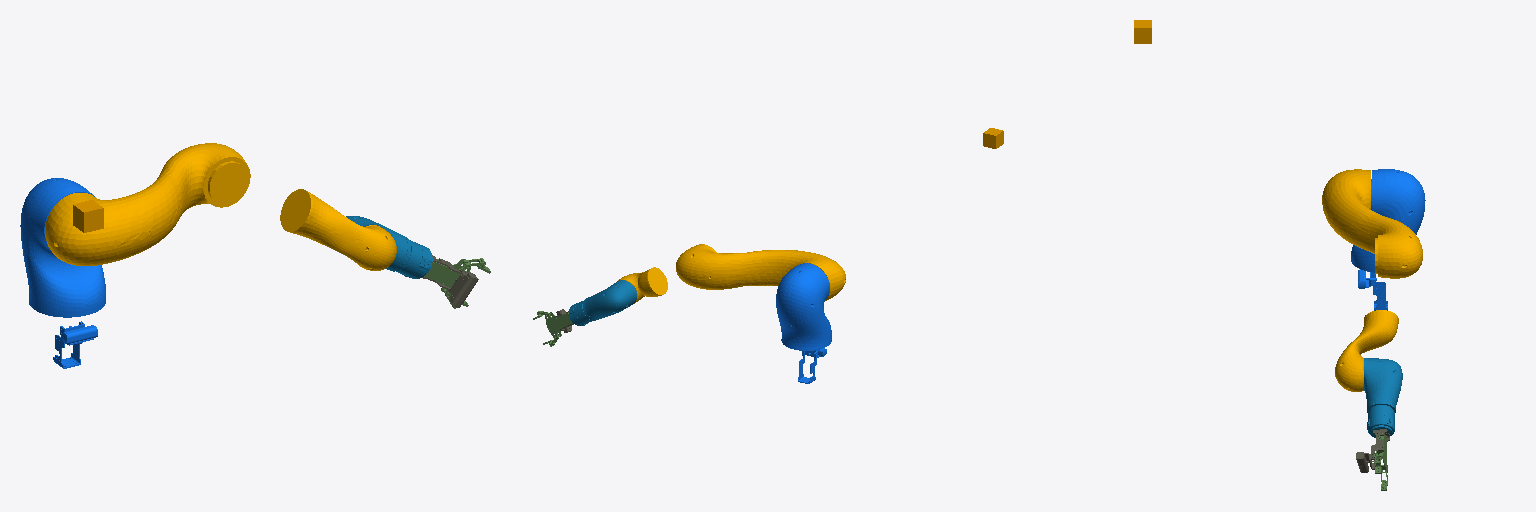
robot.urdf — hsr_co602_gripper_onhand_kinect2:
<?xml version="1.0" ?>
<!-- =================================================================================== -->
<!-- |    This document was autogenerated by xacro from hsr_co602_gripper_onhand_kinect2.xacro | -->
<!-- |    EDITING THIS FILE BY HAND IS NOT RECOMMENDED                                 | -->
<!-- =================================================================================== -->
<robot name="hsr_co602_gripper_onhand_kinect2" xmlns:xacro="http://www.ros.org/wiki/xacro">
  <link name="world"/>
  <joint name="fixed" type="fixed">
    <parent link="world"/>
    <child link="base_link"/>
    <origin rpy="0 0 0" xyz="0 0 1"/>
  </joint>
  <link name="base_link">
    <inertial>
      <origin rpy="0 0 0" xyz="-0.0024614 3.992E-07 0.076752"/>
      <mass value="4.8818"/>
      <inertia ixx="0.093861" ixy="-0.0058307" ixz="-2.7963E-06" iyy="0.080534" iyz="4.4333E-09" izz="0.12747"/>
    </inertial>
    <visual>
      <origin rpy="0 0 0" xyz="0 0 0"/>
      <geometry>
        <mesh filename="package://hsr_description/meshes/co602a/base_link.STL"/>
      </geometry>
      <material name="">
        <color rgba="0.1137 0.5098 0.97 1"/>
      </material>
    </visual>
    <collision>
      <origin rpy="0 0 0" xyz="0 0 0"/>
      <geometry>
        <mesh filename="package://hsr_description/meshes/co602a/base_link.STL"/>
      </geometry>
    </collision>
  </link>
  <link name="link1">
    <inertial>
      <origin rpy="0 0 0" xyz="-3.4523E-06 -0.02843 0.064536"/>
      <mass value="4.9839"/>
      <inertia ixx="0" ixy="0" ixz="0" iyy="0" iyz="0" izz="0"/>
    </inertial>
    <visual>
      <origin rpy="0 0 0" xyz="0 0 0"/>
      <geometry>
        <mesh filename="package://hsr_description/meshes/co602a/link1.STL"/>
      </geometry>
      <material name="">
        <color rgba="0.1137 0.5098 0.97 1"/>
      </material>
    </visual>
    <collision>
      <origin rpy="0 0 0" xyz="0 0 0"/>
      <geometry>
        <mesh filename="package://hsr_description/meshes/co602a/link1.STL"/>
      </geometry>
    </collision>
  </link>
  <joint name="joint_1" type="revolute">
    <origin rpy="3.1416 0 -3.4694E-18" xyz="0 0 0.352"/>
    <parent link="base_link"/>
    <child link="link1"/>
    <axis xyz="0 0 -1"/>
    <limit effort="28" lower="-3.490658503988" upper="3.490658503988" velocity="1.5"/>
    <safety_controller k_position="0" k_velocity="10" soft_lower_limit="-3.481931857728" soft_upper_limit="3.481931857728"/>
  </joint>
  <link name="link2">
    <inertial>
      <origin rpy="0 0 0" xyz="4.7574E-06 -0.18488 -0.037843"/>
      <mass value="6.6939"/>
      <inertia ixx="0" ixy="0" ixz="0" iyy="0" iyz="0" izz="0"/>
    </inertial>
    <visual>
      <origin rpy="0 0 0" xyz="0 0 0"/>
      <geometry>
        <mesh filename="package://hsr_description/meshes/co602a/link2.STL"/>
      </geometry>
      <material name="">
        <color rgba="0.97 0.7 0 1"/>
      </material>
    </visual>
    <collision>
      <origin rpy="0 0 0" xyz="0 0 0"/>
      <geometry>
        <mesh filename="package://hsr_description/meshes/co602a/link2.STL"/>
      </geometry>
    </collision>
  </link>
  <joint name="joint_2" type="revolute">
    <origin rpy="1.5708 -1.5708 0" xyz="0 0 0"/>
    <parent link="link1"/>
    <child link="link2"/>
    <axis xyz="0 0 1"/>
    <limit effort="28" lower="-2.268928027592" upper="1" velocity="1.0"/>
    <safety_controller k_position="100" k_velocity="10" soft_lower_limit="-2.260201381332" soft_upper_limit="1"/>
  </joint>
  <link name="link3">
    <inertial>
      <origin rpy="0 0 0" xyz="-4.098E-05 -0.085254 -0.035956"/>
      <mass value="2.3223"/>
      <inertia ixx="0" ixy="0" ixz="0" iyy="0" iyz="0" izz="0"/>
    </inertial>
    <visual>
      <origin rpy="0 0 0" xyz="0 0 0"/>
      <geometry>
        <mesh filename="package://hsr_description/meshes/co602a/link3.STL"/>
      </geometry>
      <material name="">
        <color rgba="0.1137 0.5098 0.97 1"/>
      </material>
    </visual>
    <collision>
      <origin rpy="0 0 0" xyz="0 0 0"/>
      <geometry>
        <mesh filename="package://hsr_description/meshes/co602a/link3.STL"/>
      </geometry>
    </collision>
  </link>
  <joint name="joint_3" type="revolute">
    <origin rpy="6.3741E-17 1.5386E-16 -1.5708" xyz="0 -0.4 0"/>
    <parent link="link2"/>
    <child link="link3"/>
    <axis xyz="0 0 1"/>
    <!--limit effort="28" lower="1" upper="3.665191429188" velocity="3.2"/-->
    <limit effort="28" lower="0.61" upper="3.665191429188" velocity="2.0"/>
    <safety_controller k_position="100" k_velocity="10" soft_lower_limit="0.008726646259" soft_upper_limit="3.656464782928"/>
  </joint>
  <link name="link4">
    <inertial>
      <origin rpy="0 0 0" xyz="0.049627 2.6934E-06 0.3246"/>
      <mass value="1.3111"/>
      <inertia ixx="0" ixy="0" ixz="0" iyy="0" iyz="0" izz="0"/>
    </inertial>
    <visual>
      <origin rpy="0 0 0" xyz="0 0 0"/>
      <geometry>
        <mesh filename="package://hsr_description/meshes/co602a/link4.STL"/>
      </geometry>
      <material name="">
        <color rgba="0.97 0.7 0 1"/>
      </material>
    </visual>
    <collision>
      <origin rpy="0 0 0" xyz="0 0 0"/>
      <geometry>
        <mesh filename="package://hsr_description/meshes/co602a/link4.STL"/>
      </geometry>
    </collision>
  </link>
  <joint name="joint_4" type="revolute">
    <origin rpy="1.5708 1.5708 0" xyz="0 0 0"/>
    <parent link="link3"/>
    <child link="link4"/>
    <axis xyz="0 0 1"/>
    <limit effort="28" lower="-2.1" upper="2.1" velocity="2.0"/>
    <safety_controller k_position="100" k_velocity="10" soft_lower_limit="-3.132866007329" soft_upper_limit="3.132866007329"/>
  </joint>
  <link name="link5">
    <inertial>
      <origin rpy="0 0 0" xyz="1.2952E-06 -0.043824 0.0021728"/>
      <mass value="1.1683"/>
      <inertia ixx="0" ixy="0" ixz="0" iyy="0" iyz="0" izz="0"/>
    </inertial>
    <visual>
      <origin rpy="0 0 0" xyz="0 0 0"/>
      <geometry>
        <mesh filename="package://hsr_description/meshes/co602a/link5.STL"/>
      </geometry>
      <material name="">
        <color rgba="0.113 0.5098 0.7 1"/>
      </material>
    </visual>
    <collision>
      <origin rpy="0 0 0" xyz="0 0 0"/>
      <geometry>
        <mesh filename="package://hsr_description/meshes/co602a/link5.STL"/>
      </geometry>
    </collision>
  </link>
  <joint name="joint_5" type="revolute">
    <origin rpy="-1.5708 1.8044E-17 1.5708" xyz="0 0 0.39901"/>
    <parent link="link4"/>
    <child link="link5"/>
    <axis xyz="0 0 1"/>
    <limit effort="28" lower="-2.268928027592" upper="2.268928027592" velocity="2.0"/>
    <safety_controller k_position="0" k_velocity="10" soft_lower_limit="-2.260201381332" soft_upper_limit="2.260201381332"/>
  </joint>
  <link name="link6">
    <inertial>
      <origin rpy="0 0 0" xyz="-3.5784E-05 3.8806E-05 -0.025197"/>
      <mass value="0.20458"/>
      <inertia ixx="0" ixy="0" ixz="0" iyy="0" iyz="0" izz="0"/>
    </inertial>
    <visual>
      <origin rpy="0 0 0" xyz="0 0 0"/>
      <geometry>
        <mesh filename="package://hsr_description/meshes/co602a/link6.STL"/>
      </geometry>
      <material name="">
        <color rgba="0.113 0.5098 0.7 1"/>
      </material>
    </visual>
    <collision>
      <origin rpy="0 0 0" xyz="0 0 0"/>
      <geometry>
        <mesh filename="package://hsr_description/meshes/co602a/link6.STL"/>
      </geometry>
    </collision>
  </link>
  <joint name="joint_6" type="revolute">
    <origin rpy="-1.5708 1.0064E-16 -3.1416" xyz="0 -0.19849 0"/>
    <parent link="link5"/>
    <child link="link6"/>
    <axis xyz="0 0 1"/>
    <limit effort="28" lower="-3.490658504" upper="1.4015" velocity="2.0"/>
    <safety_controller k_position="0" k_velocity="10" soft_lower_limit="-6.274458660919" soft_upper_limit="6.274458660919"/>
  </joint>
  <gazebo>
    <plugin filename="libgazebo_ros_control.so" name="gazebo_ros_control">
      <robotNamespace>/</robotNamespace>
      <robotSimType>gazebo_ros_control/DefaultRobotHWSim</robotSimType>
    </plugin>
  </gazebo>
  <transmission name="tran1">
    <type>transmission_interface/SimpleTransmission</type>
    <joint name="joint_1">
      <hardwareInterface>PositionJointInterface</hardwareInterface>
    </joint>
    <actuator name="motor1">
      <hardwareInterface>PositionJointInterface</hardwareInterface>
      <mechanicalReduction>1</mechanicalReduction>
    </actuator>
  </transmission>
  <transmission name="tran2">
    <type>transmission_interface/SimpleTransmission</type>
    <joint name="joint_2">
      <hardwareInterface>PositionJointInterface</hardwareInterface>
    </joint>
    <actuator name="motor2">
      <hardwareInterface>PositionJointInterface</hardwareInterface>
      <mechanicalReduction>1</mechanicalReduction>
    </actuator>
  </transmission>
  <transmission name="tran3">
    <type>transmission_interface/SimpleTransmission</type>
    <joint name="joint_3">
      <hardwareInterface>PositionJointInterface</hardwareInterface>
    </joint>
    <actuator name="motor3">
      <hardwareInterface>PositionJointInterface</hardwareInterface>
      <mechanicalReduction>1</mechanicalReduction>
    </actuator>
  </transmission>
  <transmission name="tran4">
    <type>transmission_interface/SimpleTransmission</type>
    <joint name="joint_4">
      <hardwareInterface>PositionJointInterface</hardwareInterface>
    </joint>
    <actuator name="motor4">
      <hardwareInterface>PositionJointInterface</hardwareInterface>
      <mechanicalReduction>1</mechanicalReduction>
    </actuator>
  </transmission>
  <transmission name="tran5">
    <type>transmission_interface/SimpleTransmission</type>
    <joint name="joint_5">
      <hardwareInterface>PositionJointInterface</hardwareInterface>
    </joint>
    <actuator name="motor5">
      <hardwareInterface>PositionJointInterface</hardwareInterface>
      <mechanicalReduction>1</mechanicalReduction>
    </actuator>
  </transmission>
  <transmission name="tran6">
    <type>transmission_interface/SimpleTransmission</type>
    <joint name="joint_6">
      <hardwareInterface>PositionJointInterface</hardwareInterface>
    </joint>
    <actuator name="motor6">
      <hardwareInterface>PositionJointInterface</hardwareInterface>
      <mechanicalReduction>1</mechanicalReduction>
    </actuator>
  </transmission>
  <!-- Size of square 'camera' box -->
  <link name="camera_link">
    <collision>
      <origin rpy="0 0 0" xyz="0 0 0"/>
      <geometry>
        <box size="0.05 0.05 0.05"/>
      </geometry>
    </collision>
    <visual>
      <origin rpy="0 0 0" xyz="0 0 0"/>
      <geometry>
        <box size="0.05 0.05 0.05"/>
      </geometry>
      <material name="red"/>
    </visual>
    <inertial>
      <mass value="1e-5"/>
      <origin rpy="0 0 0" xyz="0 0 0"/>
      <inertia ixx="1e-6" ixy="0" ixz="0" iyy="1e-6" iyz="0" izz="1e-6"/>
    </inertial>
  </link>
  <!-- kinect -->
  <gazebo reference="camera_link">
    <sensor name="openni_camera_camera" type="depth">
      <always_on>1</always_on>
      <visualize>true</visualize>
      <camera>
        <horizontal_fov>1.047</horizontal_fov>
        <image>
          <width>640</width>
          <height>480</height>
          <format>B8G8R8</format>
        </image>
        <depth_camera>

            </depth_camera>
        <clip>
          <near>0.1</near>
          <far>100</far>
        </clip>
      </camera>
      <plugin filename="libgazebo_ros_openni_kinect.so" name="camera_controller">
        <alwaysOn>true</alwaysOn>
        <baseline>0.2</baseline>
        <updateRate>30</updateRate>
        <cameraName>camera</cameraName>
        <frameName>kinect_frame</frameName>
        <imageTopicName>rgb/image_raw</imageTopicName>
        <depthImageTopicName>depth/image_raw</depthImageTopicName>
        <pointCloudTopicName>depth/points</pointCloudTopicName>
        <cameraInfoTopicName>rgb/camera_info</cameraInfoTopicName>
        <depthImageCameraInfoTopicName>depth/camera_info</depthImageCameraInfoTopicName>
        <pointCloudCutoff>0.5</pointCloudCutoff>
        <distortionK1>0</distortionK1>
        <distortionK2>0</distortionK2>
        <distortionK3>0</distortionK3>
        <distortionT1>0</distortionT1>
        <distortionT2>0</distortionT2>
        <CxPrime>0.0</CxPrime>
        <Cx>0.0</Cx>
        <Cy>0.0</Cy>
        <focalLength>0.0</focalLength>
      </plugin>
    </sensor>
  </gazebo>
  <link name="gripper_base_link">
    <inertial>
      <origin rpy="0 0 0" xyz="0.000131706391042187 -0.0390683856464977 0.081199520192839"/>
      <mass value="0.145677232438391"/>
      <inertia ixx="8.40495062422861E-05" ixy="-6.82136717259575E-07" ixz="9.08788702310012E-07" iyy="4.96036917958725E-05" iyz="3.95062698042515E-05" izz="3.44803015215572E-05"/>
    </inertial>
    <visual>
      <origin rpy="0 0 0" xyz="0 0 0"/>
      <geometry>
        <mesh filename="package://hsr_description/meshes/eye_hand_gripper/base_link.STL"/>
      </geometry>
      <material name="">
        <color rgba="0.4 0.4 0.35 1"/>
      </material>
    </visual>
    <collision>
      <origin rpy="0 0 0" xyz="0 0 0"/>
      <geometry>
        <mesh filename="package://hsr_description/meshes/eye_hand_gripper/base_link.STL"/>
      </geometry>
    </collision>
  </link>
  <link name="grisper_boby_link">
    <inertial>
      <origin rpy="0 0 0" xyz="2.84228059294067E-05 -0.000875529500481004 -0.00997402814116276"/>
      <mass value="0.0387962759306602"/>
      <inertia ixx="0" ixy="0" ixz="0" iyy="0" iyz="0" izz="0"/>
    </inertial>
    <visual>
      <origin rpy="0 0 0" xyz="0 0 0"/>
      <geometry>
        <mesh filename="package://hsr_description/meshes/eye_hand_gripper/grisper_boby_link.STL"/>
      </geometry>
      <material name="">
        <color rgba="0.4 0.55 0.35 1"/>
      </material>
    </visual>
    <collision>
      <origin rpy="0 0 0" xyz="0 0 0"/>
      <geometry>
        <mesh filename="package://hsr_description/meshes/eye_hand_gripper/grisper_boby_link.STL"/>
      </geometry>
    </collision>
  </link>
  <joint name="grisper_boby_joint" type="fixed">
    <origin rpy="1.5708 1.3479E-15 1.3852E-15" xyz="0 -0.01 0.064"/>
    <parent link="gripper_base_link"/>
    <child link="grisper_boby_link"/>
    <axis xyz="0 0 0"/>
  </joint>
  <link name="right_finger_1_link">
    <inertial>
      <origin rpy="0 0 0" xyz="-2.92388038200531E-06 0.0168231601122346 0.0089790044607883"/>
      <mass value="0.00235032514171626"/>
      <inertia ixx="0" ixy="0" ixz="0" iyy="0" iyz="0" izz="0"/>
    </inertial>
    <visual>
      <origin rpy="0 0 0" xyz="0 0 0"/>
      <geometry>
        <mesh filename="package://hsr_description/meshes/eye_hand_gripper/right_finger_1_link.STL"/>
      </geometry>
      <material name="">
        <color rgba="0.4 0.55 0.35 1"/>
      </material>
    </visual>
    <collision>
      <origin rpy="0 0 0" xyz="0 0 0"/>
      <geometry>
        <mesh filename="package://hsr_description/meshes/eye_hand_gripper/right_finger_1_link.STL"/>
      </geometry>
    </collision>
  </link>
  <joint name="right_finger_1_joint" type="continuous">
    <origin rpy="0 0 -0.501740656078991" xyz="0.04 0.036 -0.019"/>
    <parent link="grisper_boby_link"/>
    <child link="right_finger_1_link"/>
    <axis xyz="0 0 1"/>
  </joint>
  <link name="right_finger_2_link">
    <inertial>
      <origin rpy="0 0 0" xyz="-0.0085798133911776 0.00661394976740351 0.00600000756322747"/>
      <mass value="0.00200167864656235"/>
      <inertia ixx="0" ixy="0" ixz="0" iyy="0" iyz="0" izz="0"/>
    </inertial>
    <visual>
      <origin rpy="0 0 0" xyz="0 0 0"/>
      <geometry>
        <mesh filename="package://hsr_description/meshes/eye_hand_gripper/right_finger_2_link.STL"/>
      </geometry>
      <material name="">
        <color rgba="0.4 0.55 0.35 1"/>
      </material>
    </visual>
    <collision>
      <origin rpy="0 0 0" xyz="0 0 0"/>
      <geometry>
        <mesh filename="package://hsr_description/meshes/eye_hand_gripper/right_finger_2_link.STL"/>
      </geometry>
    </collision>
  </link>
  <joint name="right_finger_2_joint" type="continuous">
    <origin rpy="0 0 0.501740656078991" xyz="0 0.042 0.00300000000000001"/>
    <parent link="right_finger_1_link"/>
    <child link="right_finger_2_link"/>
    <axis xyz="0 0 1"/>
  </joint>
  <link name="right_finger_end_link">
    <inertial>
      <origin rpy="0 0 0" xyz="-0.0181096606742553 0.00899999232533871 0.000419374358405108"/>
      <mass value="0.00169081070175499"/>
      <inertia ixx="0" ixy="0" ixz="0" iyy="0" iyz="0" izz="0"/>
    </inertial>
    <visual>
      <origin rpy="0 0 0" xyz="0 0 0"/>
      <geometry>
        <mesh filename="package://hsr_description/meshes/eye_hand_gripper/right_finger_end_link.STL"/>
      </geometry>
      <material name="">
        <color rgba="0.4 0.55 0.35 1"/>
      </material>
    </visual>
    <collision>
      <origin rpy="0 0 0" xyz="0 0 0"/>
      <geometry>
        <mesh filename="package://hsr_description/meshes/eye_hand_gripper/right_finger_end_link.STL"/>
      </geometry>
    </collision>
  </link>
  <joint name="right_finger_end_joint" type="fixed">
    <origin rpy="1.5707963267949 0 -1.5707963267949" xyz="-0.0145 -0.0035 -0.00300000000000001"/>
    <parent link="right_finger_2_link"/>
    <child link="right_finger_end_link"/>
    <axis xyz="0 0 0"/>
  </joint>
  <link name="left_finger_1_link">
    <inertial>
      <origin rpy="0 0 0" xyz="-2.92395601426965E-06 0.0168231599777492 0.00897900452955606"/>
      <mass value="0.0023503251697047"/>
      <inertia ixx="0" ixy="0" ixz="0" iyy="0" iyz="0" izz="0"/>
    </inertial>
    <visual>
      <origin rpy="0 0 0" xyz="0 0 0"/>
      <geometry>
        <mesh filename="package://hsr_description/meshes/eye_hand_gripper/left_finger_1_link.STL"/>
      </geometry>
      <material name="">
        <color rgba="0.4 0.55 0.35 1"/>
      </material>
    </visual>
    <collision>
      <origin rpy="0 0 0" xyz="0 0 0"/>
      <geometry>
        <mesh filename="package://hsr_description/meshes/eye_hand_gripper/left_finger_1_link.STL"/>
      </geometry>
    </collision>
  </link>
  <joint name="left_finger_1_joint" type="continuous">
    <origin rpy="0 0 0.501740656078991" xyz="-0.04 0.036 -0.019"/>
    <parent link="grisper_boby_link"/>
    <child link="left_finger_1_link"/>
    <axis xyz="0 0 1"/>
  </joint>
  <link name="left_finger_2_link">
    <inertial>
      <origin rpy="0 0 0" xyz="-0.00857981339117761 0.00661394976740348 0.00600000756322748"/>
      <mass value="0.00200167864656235"/>
      <inertia ixx="0" ixy="0" ixz="0" iyy="0" iyz="0" izz="0"/>
    </inertial>
    <visual>
      <origin rpy="0 0 0" xyz="0 0 0"/>
      <geometry>
        <mesh filename="package://hsr_description/meshes/eye_hand_gripper/left_finger_2_link.STL"/>
      </geometry>
      <material name="">
        <color rgba="0.4 0.55 0.35 1"/>
      </material>
    </visual>
    <collision>
      <origin rpy="0 0 0" xyz="0 0 0"/>
      <geometry>
        <mesh filename="package://hsr_description/meshes/eye_hand_gripper/left_finger_2_link.STL"/>
      </geometry>
    </collision>
  </link>
  <joint name="left_finger_2_joint" type="continuous">
    <origin rpy="3.14159265358979 0 2.6398519975108" xyz="0 0.0419999999999999 0.0149999999999995"/>
    <parent link="left_finger_1_link"/>
    <child link="left_finger_2_link"/>
    <axis xyz="0 0 1"/>
  </joint>
  <link name="left_finger_end_link">
    <inertial>
      <origin rpy="0 0 0" xyz="-0.0181096606742553 0.00899999232533872 0.000419374358405097"/>
      <mass value="0.00169081070175499"/>
      <inertia ixx="0" ixy="0" ixz="0" iyy="0" iyz="0" izz="0"/>
    </inertial>
    <visual>
      <origin rpy="0 0 0" xyz="0 0 0"/>
      <geometry>
        <mesh filename="package://hsr_description/meshes/eye_hand_gripper/left_finger_end_link.STL"/>
      </geometry>
      <material name="">
        <color rgba="0.4 0.55 0.35 1"/>
      </material>
    </visual>
    <collision>
      <origin rpy="0 0 0" xyz="0 0 0"/>
      <geometry>
        <mesh filename="package://hsr_description/meshes/eye_hand_gripper/left_finger_end_link.STL"/>
      </geometry>
    </collision>
  </link>
  <joint name="left_finger_end_joint" type="fixed">
    <origin rpy="1.5707963267949 8.67361737988403E-17 -1.5707963267949" xyz="-0.0144999999999999 -0.0035 -0.00299999999999996"/>
    <parent link="left_finger_2_link"/>
    <child link="left_finger_end_link"/>
    <axis xyz="0 0 0"/>
  </joint>
  <link name="pick_gripper_link">
    <visual>
      <origin rpy="0 0 0" xyz="0 0 0"/>
      <geometry>
        <box size="0.001 0.0005 0.0005"/>
      </geometry>
    </visual>
  </link>
  <transmission name="tran1">
    <type>transmission_interface/SimpleTransmission</type>
    <joint name="right_finger_1_joint">
      <hardwareInterface>PositionJointInterface</hardwareInterface>
    </joint>
    <actuator name="right_finger_1_motor">
      <hardwareInterface>PositionJointInterface</hardwareInterface>
      <mechanicalReduction>1</mechanicalReduction>
    </actuator>
  </transmission>
  <transmission name="tran2">
    <type>transmission_interface/SimpleTransmission</type>
    <joint name="right_finger_2_joint">
      <hardwareInterface>PositionJointInterface</hardwareInterface>
    </joint>
    <actuator name="right_finger_2_motor">
      <hardwareInterface>PositionJointInterface</hardwareInterface>
      <mechanicalReduction>1</mechanicalReduction>
    </actuator>
  </transmission>
  <transmission name="tran3">
    <type>transmission_interface/SimpleTransmission</type>
    <joint name="left_finger_1_joint">
      <hardwareInterface>PositionJointInterface</hardwareInterface>
    </joint>
    <actuator name="left_finger_1_motor">
      <hardwareInterface>PositionJointInterface</hardwareInterface>
      <mechanicalReduction>1</mechanicalReduction>
    </actuator>
  </transmission>
  <transmission name="tran4">
    <type>transmission_interface/SimpleTransmission</type>
    <joint name="left_finger_2_joint">
      <hardwareInterface>PositionJointInterface</hardwareInterface>
    </joint>
    <actuator name="left_finger_2_motor">
      <hardwareInterface>PositionJointInterface</hardwareInterface>
      <mechanicalReduction>1</mechanicalReduction>
    </actuator>
  </transmission>
  <hsr_co602a/>
  <joint name="gripper_robot_joint" type="fixed">
    <parent link="link6"/>
    <child link="gripper_base_link"/>
    <origin rpy="0 0 3.3161255788" xyz="0.0 0.0 0.0"/>
  </joint>
  <joint name="pick_gripper_joint" type="fixed">
    <origin rpy="0 -1.5708 1.5708" xyz="-0.0115 0.0 0.15"/>
    <axis xyz="0 0 1"/>
    <parent link="gripper_base_link"/>
    <child link="pick_gripper_link"/>
  </joint>
  <joint name="kinect_base_link_joint" type="fixed">
    <origin rpy=" 0 0 0" xyz="-0.3380248810871023 -0.6770877313845074 0.7103267987611978"/>
    <parent link="base_link"/>
    <child link="camera_link"/>
  </joint>
</robot>

--- What the picture shows (computed from the rendered views, not written in the file) ---
The picture shows the robot from 3 angles, left to right: view 1: azimuth 30°, elevation 25°; view 2: azimuth 150°, elevation 25°; view 3: azimuth 270°, elevation 25°; orthographic projection.
Model hsr_co602_gripper_onhand_kinect2 with 18 links and 17 joints (6 revolute, 4 continuous, 7 fixed), rooted at world, posed all joints at 0 but 1 set to mid-range because 0 is outside their limits (joint_3 = 2.14).
Links seen in each view (by area): view 1: link2, link1, link4, base_link, camera_link, gripper_base_link, link6, link5, grisper_boby_link; view 2: link2, link1, link5, link4; view 3: link2, link1, link4, link5, link6, base_link, gripper_base_link.
Link boxes in pixels (box(x1,y1,x2,y2)): link2: box(45, 143, 250, 265); link1: box(20, 178, 105, 317); link4: box(280, 189, 396, 270); base_link: box(53, 321, 97, 368); camera_link: box(73, 200, 103, 232); gripper_base_link: box(422, 255, 478, 307); link6: box(396, 240, 432, 278); link5: box(346, 216, 410, 271); grisper_boby_link: box(425, 259, 470, 297); link2: box(676, 244, 845, 300); link1: box(776, 263, 831, 350); link5: box(583, 280, 636, 320); link4: box(618, 267, 667, 303); link2: box(1322, 169, 1422, 278); link1: box(1351, 169, 1425, 272); link4: box(1335, 310, 1398, 391); link5: box(1364, 358, 1402, 412); link6: box(1367, 406, 1394, 437); base_link: box(1358, 269, 1387, 310); gripper_base_link: box(1356, 429, 1389, 472).
Bounding box of the posed robot: 1.43 × 0.8277 × 0.8347 m (x, y, z).
Meshes: 15 distinct files referenced, 14 mesh visuals loaded (13 binary STL); not drawn: 1 (reference not matched to a file when rendering).
